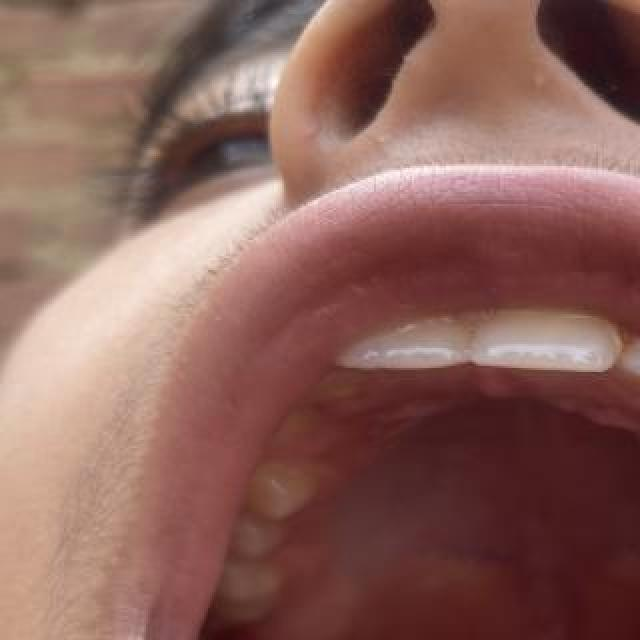calculus: (539, 312, 639, 368), (320, 379, 376, 407)
